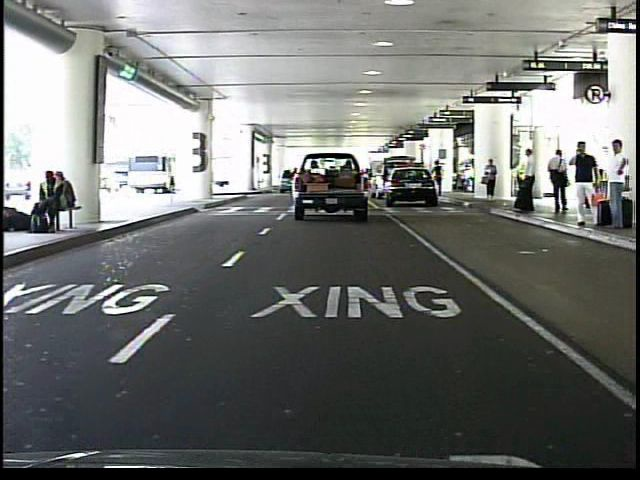person: (566, 138, 601, 228), (602, 137, 630, 236), (548, 145, 574, 217), (513, 146, 539, 217), (481, 158, 500, 204), (432, 160, 445, 199)
